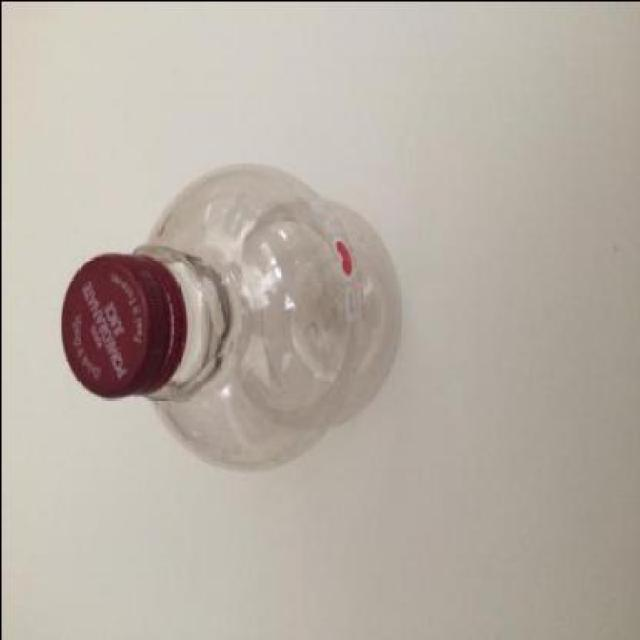PLASTIC: (59, 162, 398, 466), (58, 249, 180, 397)
